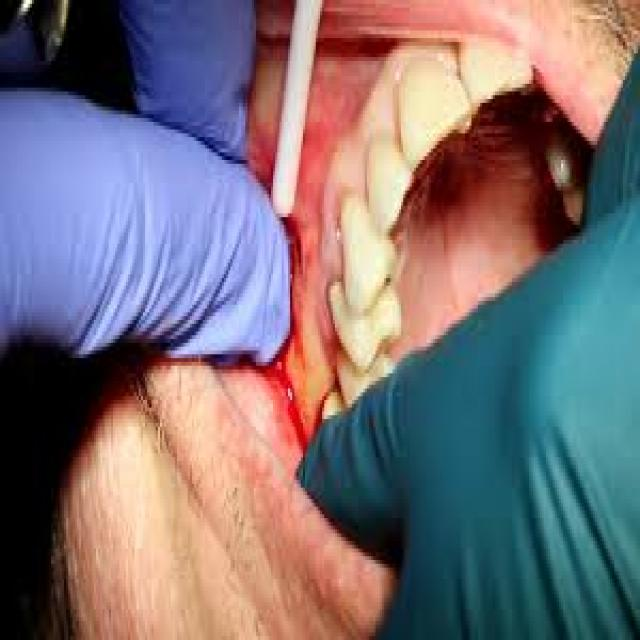abscess: (268, 284, 339, 460)
